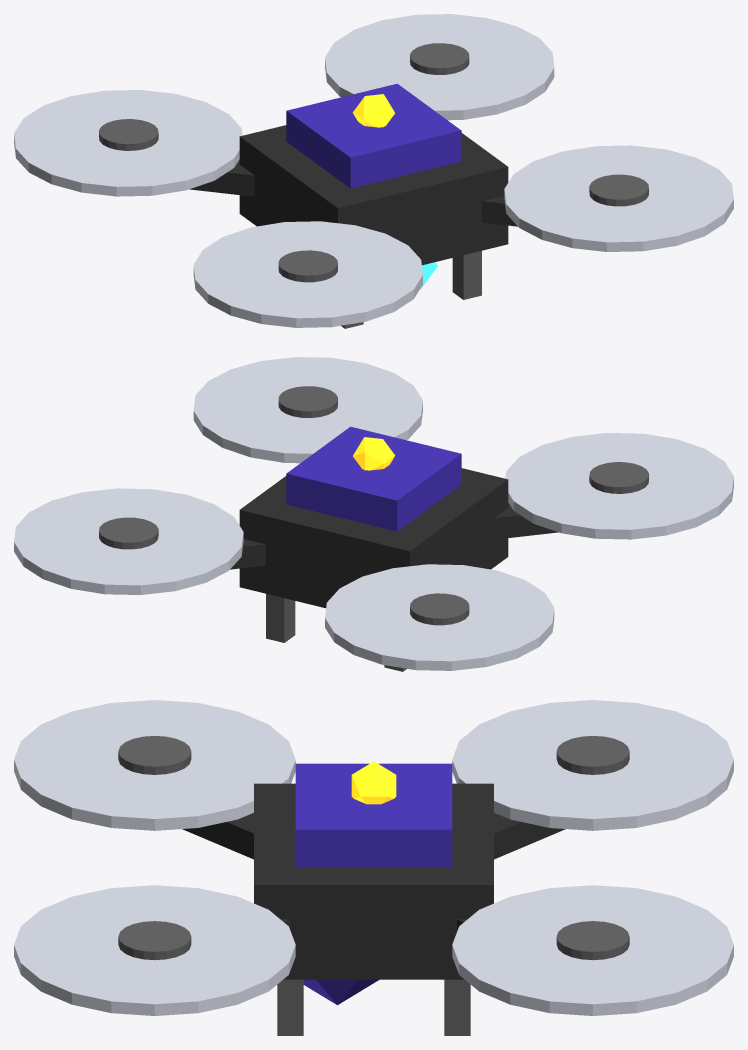
The model's file is drone.glb.
3 views of the same model, one above another, from view 1: azimuth 30°, elevation 25°; view 2: azimuth 150°, elevation 25°; view 3: azimuth 270°, elevation 25° (orthographic). The views are drawn at different scales.
Size of the model in its own units: 1.6 by 0.5595 by 1.6.
